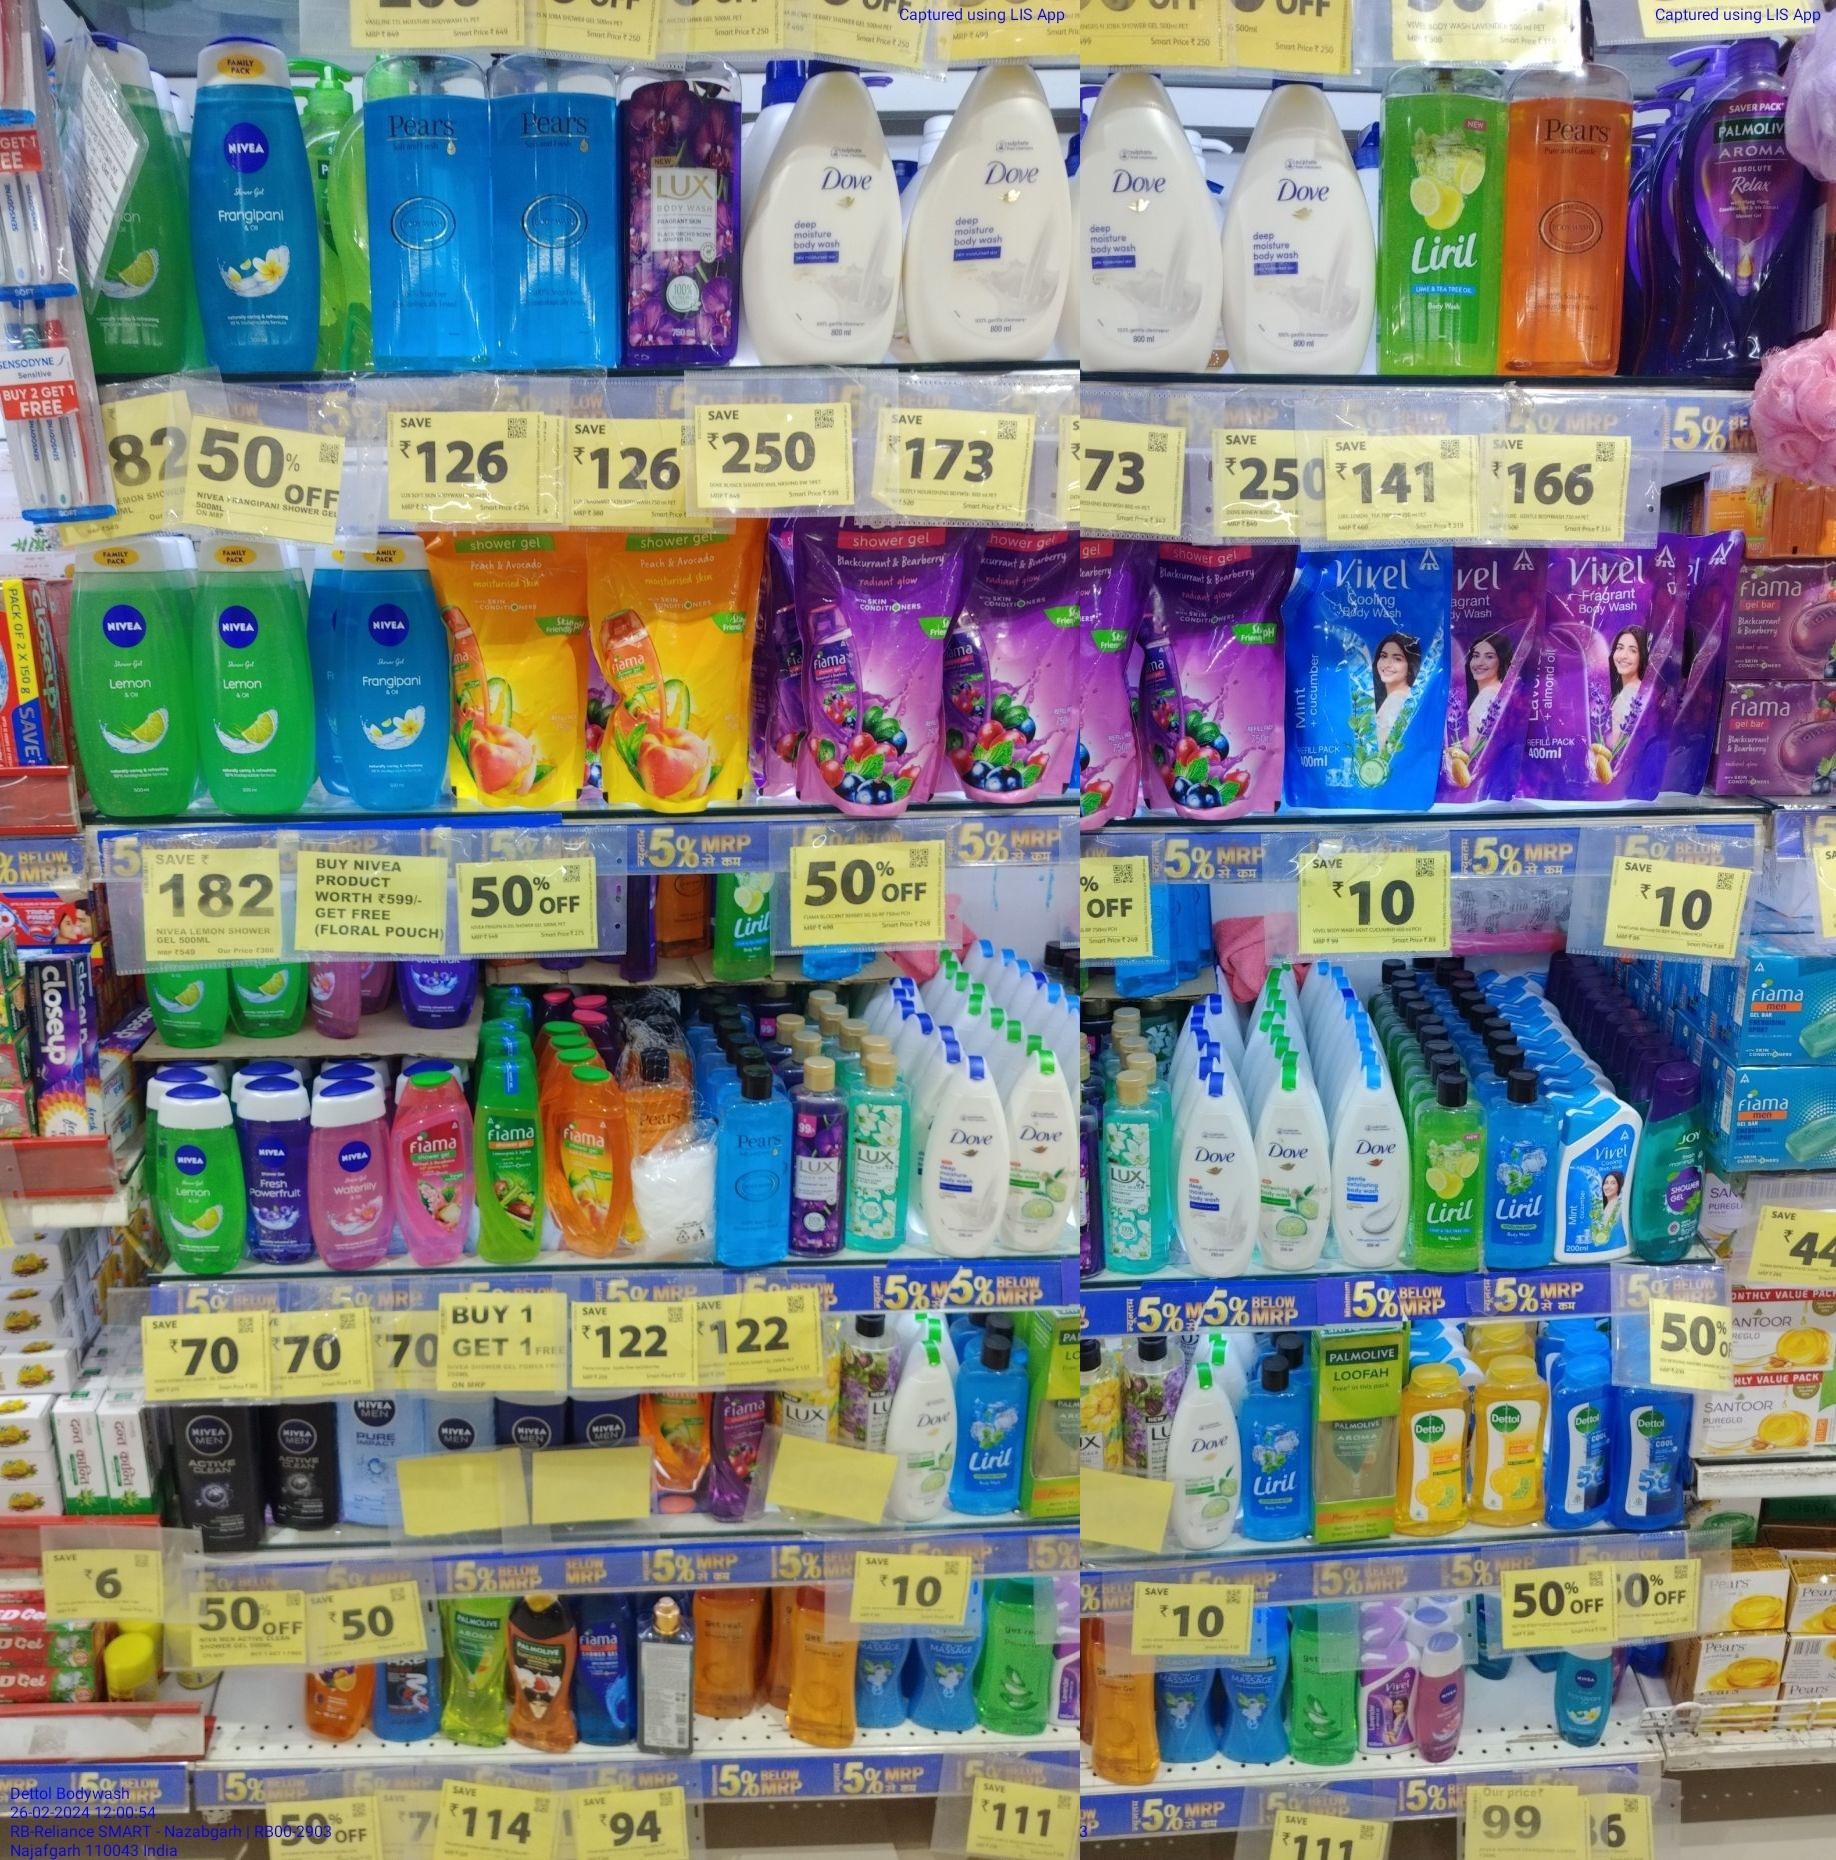Dettol_Bodywash_Cool: (1550, 1355, 1614, 1534), (1619, 1382, 1688, 1530)
Dettol_Bodywash_Refresh: (1473, 1354, 1548, 1525), (1397, 1364, 1466, 1535)
Dove_Deep_Moisture_Body_Wash_250ML: (921, 1054, 1009, 1258), (1177, 1073, 1256, 1278)
Dove_Gentle_Exfoliating_Body_Wash_250ML: (1330, 1068, 1404, 1265)
Dove_Refreshing_Body_Wash_250ML: (1163, 1357, 1242, 1554), (1256, 1056, 1327, 1266), (1007, 1051, 1081, 1251), (888, 1344, 958, 1524)
Fiama_Shower_Gel_Lemongrass_and_Jojoba_250ML: (472, 1054, 548, 1263)
Fiama_Shower_Gel_Patchouli_and_Macadamia_250ML: (388, 1071, 474, 1266)
Fiama_Shower_Gel_Peach_and_Avocado_250ML: (550, 1068, 624, 1258)
Get_Real_Shower_Gel_Moisturising_Glycerin_300ML: (780, 1601, 856, 1746), (1089, 1662, 1160, 1783)
Lux_Black_Orchid_Scent_and_Juniper_Oil_Body_Wash_245ML: (789, 1058, 842, 1253)
Lux_Body_Wash_Skin_Detox_Freesia_Scent_and_Alove_Vera_245ML: (1096, 1070, 1170, 1275), (844, 1054, 913, 1255)
Nivea_Shower_Gel_Frangipani_and_Oil_250ML: (309, 531, 449, 812)
Nivea_Shower_Gel_Fresh_Powerfruit_250ML: (235, 1078, 314, 1266)
Nivea_Shower_Gel_Lemon_and_Oil_250ML: (69, 535, 197, 819), (192, 530, 314, 811), (153, 1086, 247, 1273)
Nivea_Shower_Gel_Waterlily_and_Oil_250ML: (311, 1076, 395, 1271)
Palmolive_Luminous_Oils_With_White_Orchid_Shower_Gel_250ML: (506, 1593, 577, 1754)
